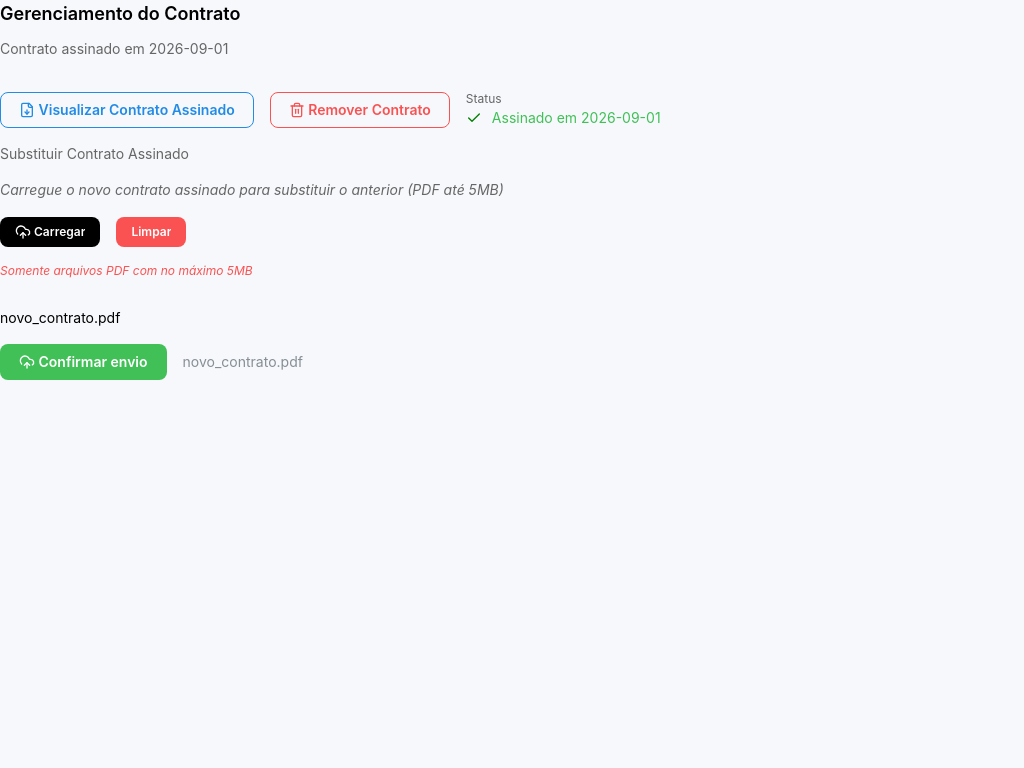
ContractTab - MASTER group permissions › opens confirmation modal when MASTER user submits a replacement file
The width and height of the screenshot is (1024, 768).
Click the button "Confirmar envio".
click(83, 362)  # box [0, 344, 167, 380]
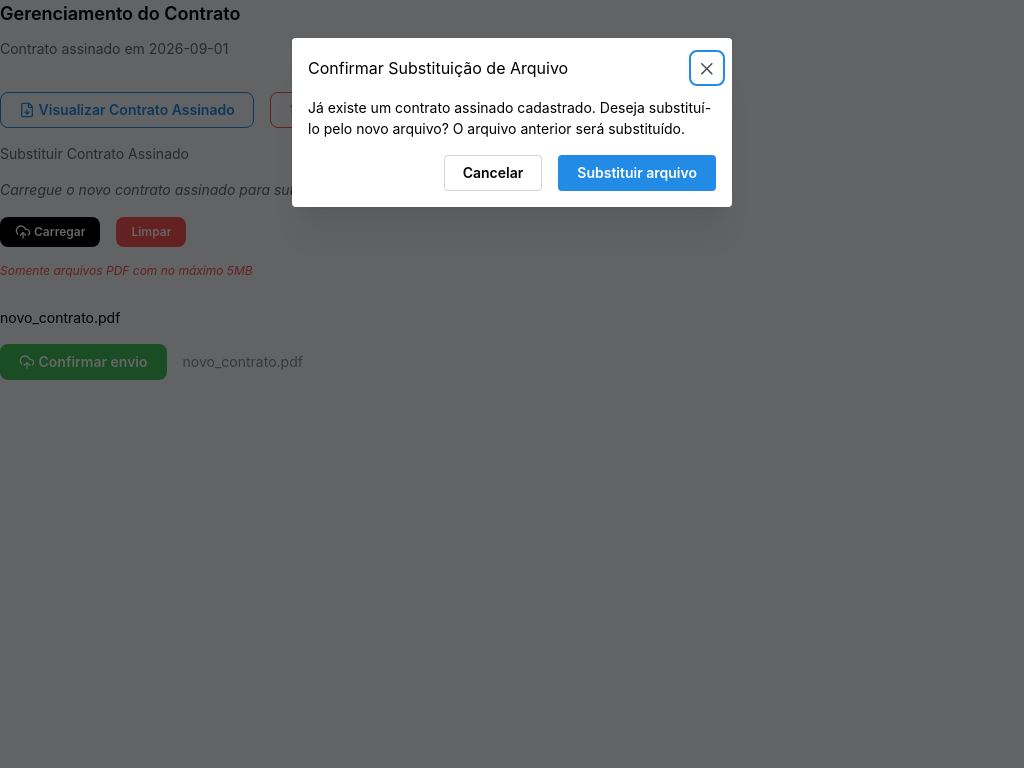
Check: the heading "Confirmar Substituição de Arquivo" is shown, box [308, 60, 568, 76]
Check: the text "Já existe um contrato assinado cadastrado. Deseja substituí-lo pelo novo arquivo? O arquivo anterior será substituído." is shown, box [308, 99, 711, 137]
